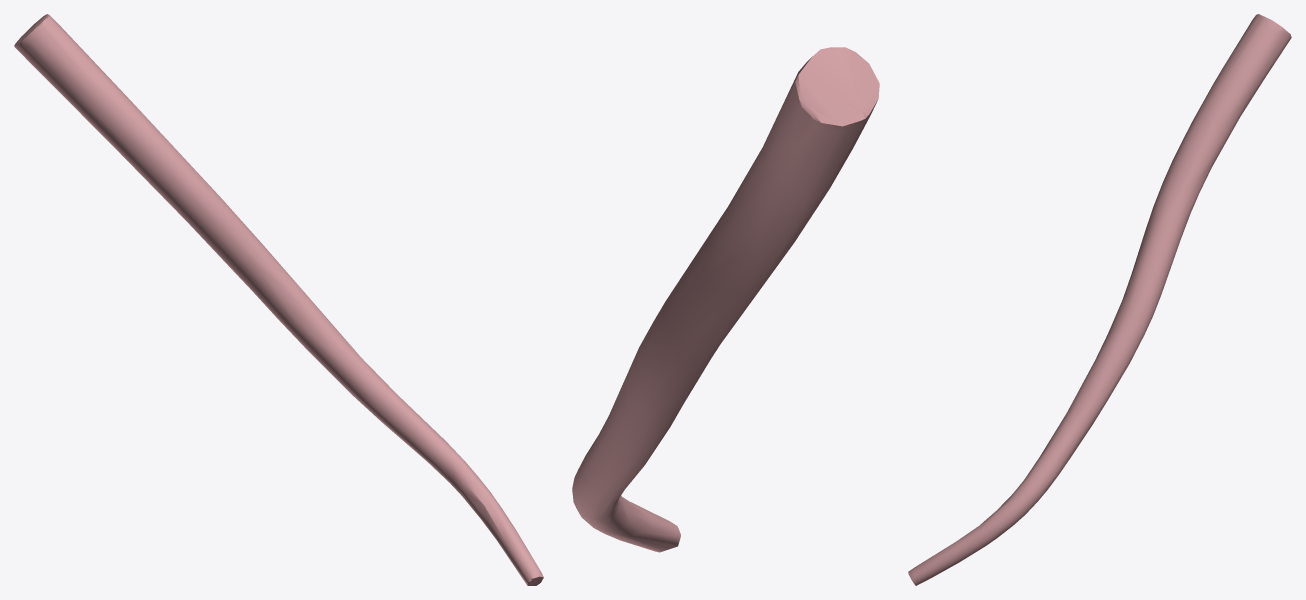
File: fma68230_fj2442.glb
3 renders of one model, left to right at view 1: azimuth 30°, elevation 25°; view 2: azimuth 150°, elevation 25°; view 3: azimuth 270°, elevation 25°, orthographic. The views are drawn at different scales.
Parts seen in each view (by area): view 1: FMA68230_FJ2442; view 2: FMA68230_FJ2442; view 3: FMA68230_FJ2442.
Boxes of the visible parts, bbox=[...] form: FMA68230_FJ2442: bbox=[14, 14, 543, 585]; FMA68230_FJ2442: bbox=[572, 47, 879, 552]; FMA68230_FJ2442: bbox=[908, 14, 1291, 585].
Size of the model in its own units: 0.0586 by 0.0853 by 0.0671.
